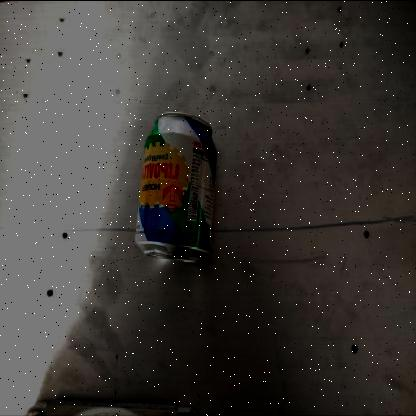Can: (135, 110, 219, 262)
